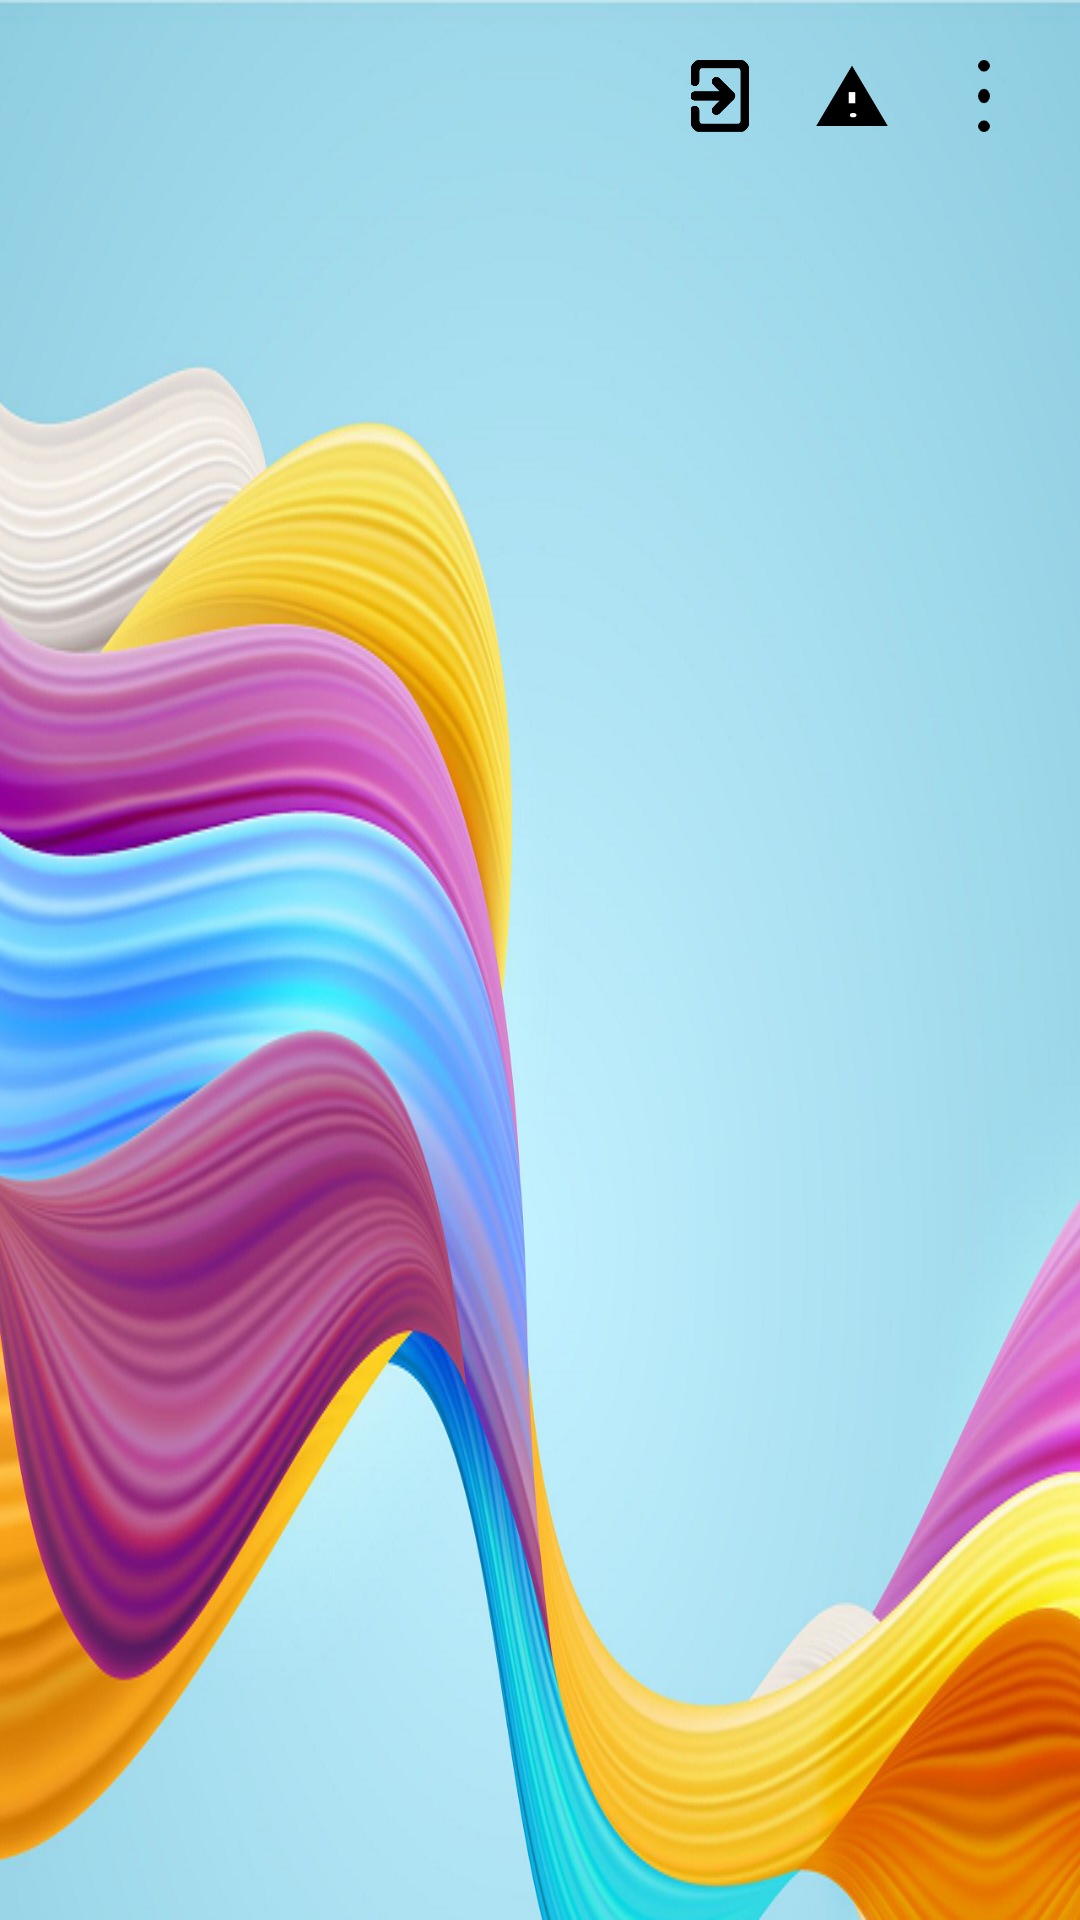

Screen size 1080w x 1920h. Icon name, then its center in pixels as point (x, y):
menu: point (984, 96)
